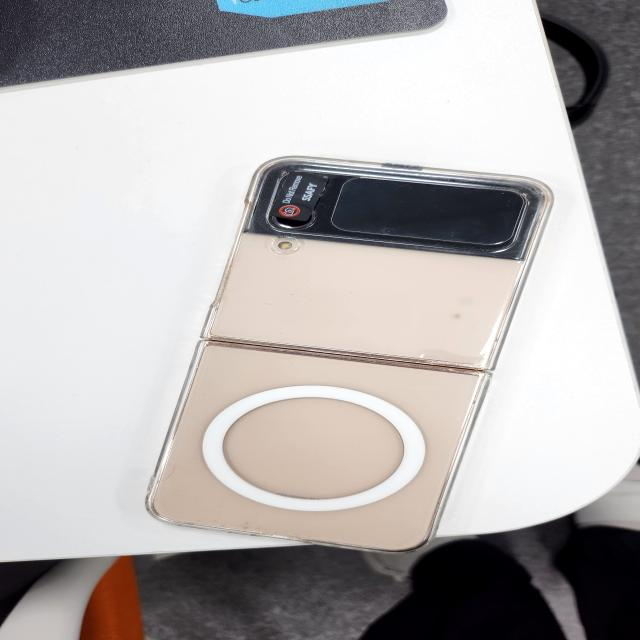phone: (147, 153, 558, 554)
sticker: (270, 171, 328, 222)
